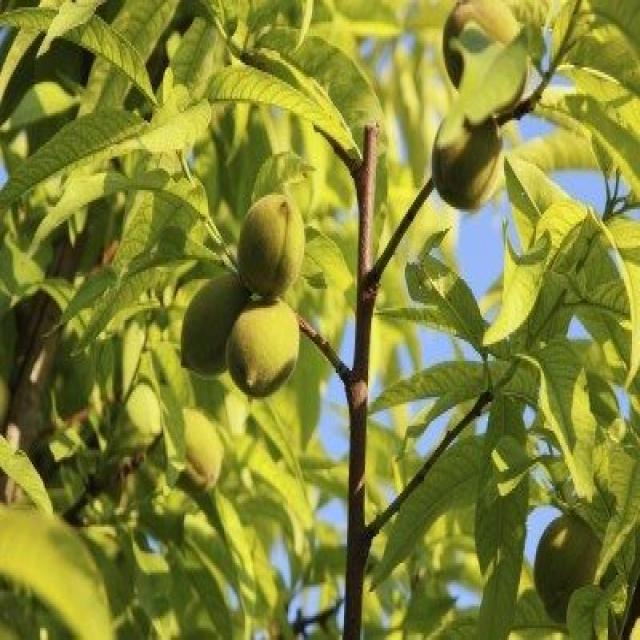Peach: (139, 0, 525, 450)
